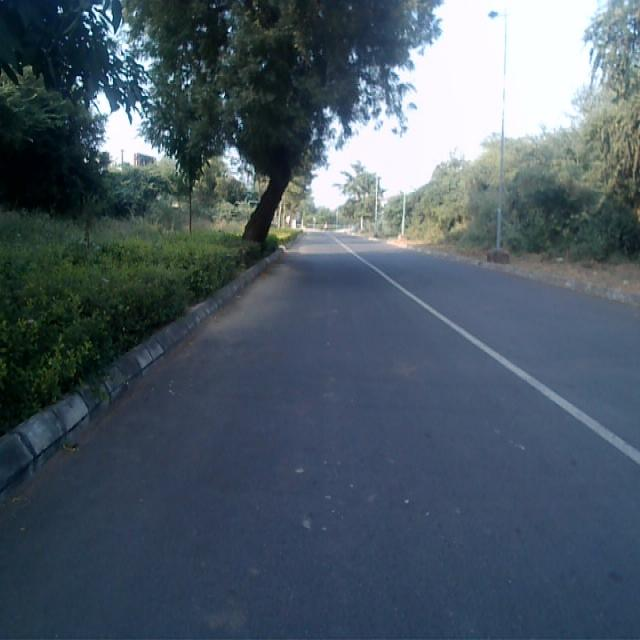lane: (0, 236, 640, 640)
